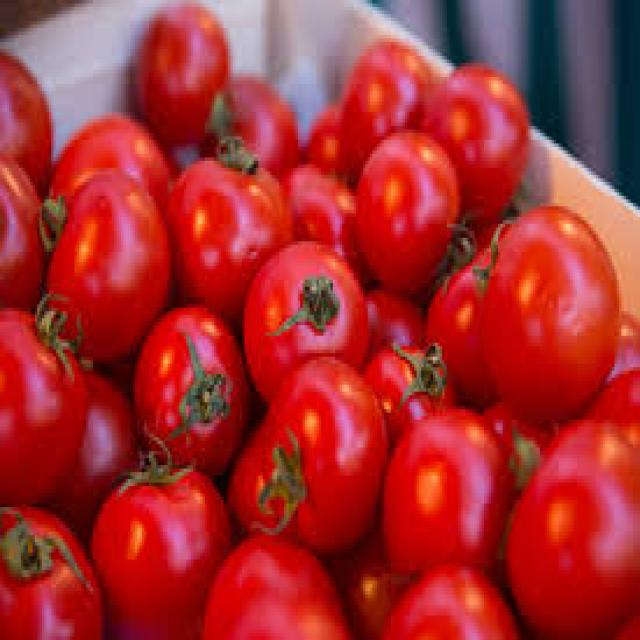organic waste: (477, 199, 619, 420), (502, 412, 638, 636), (254, 353, 386, 560), (90, 458, 232, 637), (40, 175, 172, 360), (377, 395, 507, 581), (240, 238, 365, 402), (163, 150, 286, 308), (349, 122, 459, 294), (0, 287, 86, 507), (130, 304, 244, 462), (421, 56, 526, 220), (200, 528, 347, 637), (44, 364, 133, 538), (423, 217, 502, 406), (46, 109, 182, 214), (130, 3, 228, 147), (0, 504, 105, 636), (333, 38, 430, 178), (272, 158, 366, 276), (377, 560, 517, 636), (210, 70, 296, 175), (0, 147, 56, 308), (363, 343, 456, 437), (328, 521, 405, 630), (0, 42, 49, 182), (226, 420, 279, 528), (358, 276, 424, 361), (482, 392, 542, 479), (572, 364, 638, 426), (305, 102, 349, 172), (605, 308, 638, 378)
